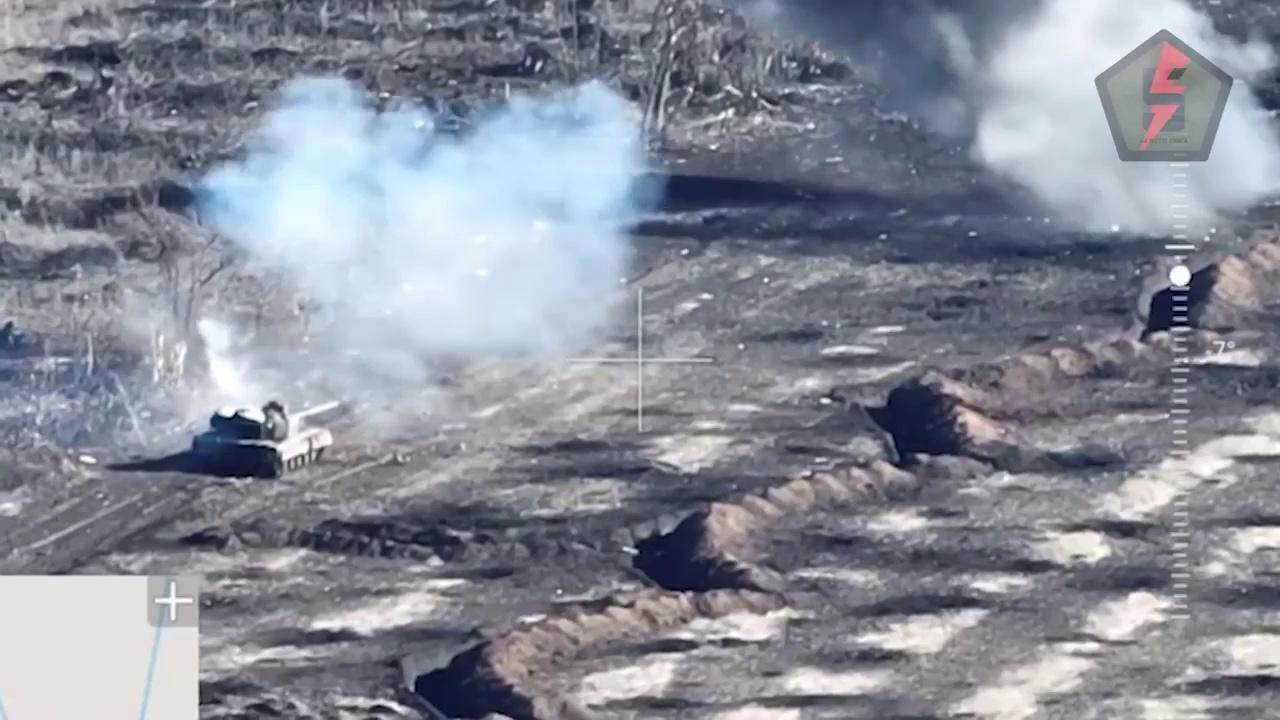vehicle: (192, 390, 346, 474)
